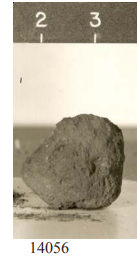Breccia: (24, 113, 128, 215)
